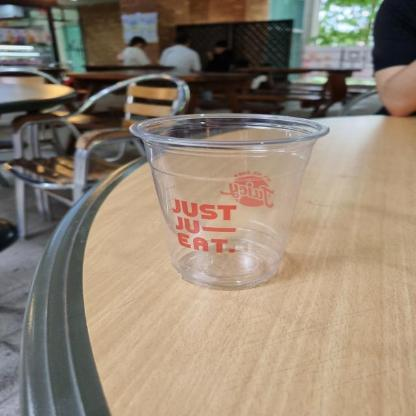Plastic Cup: (125, 110, 334, 294)
